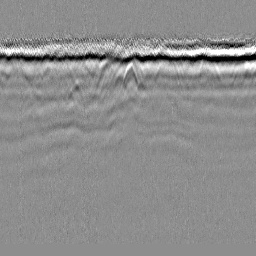cavity: (120, 61, 139, 90)
